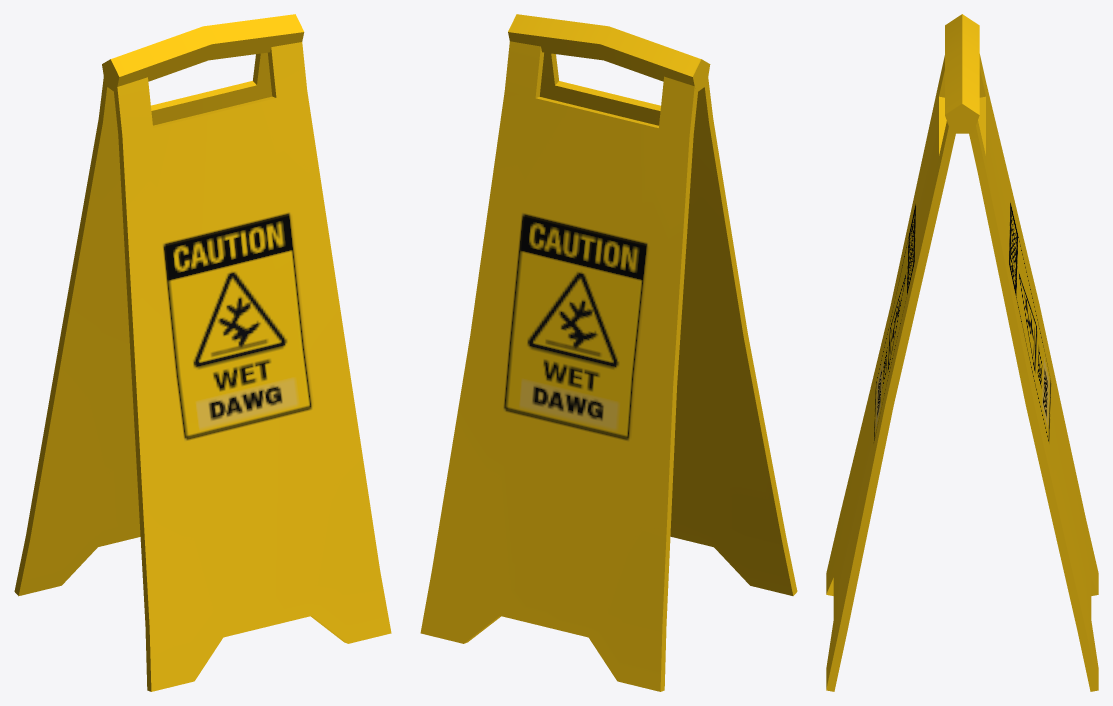
The model's file is WetFloorSign.fbx.
3 views of the same model, side by side, from view 1: azimuth 30°, elevation 25°; view 2: azimuth 150°, elevation 25°; view 3: azimuth 270°, elevation 25° (orthographic).
Parts seen in each view (by area): view 1: wetFloorSign3, wetFloorSign1, wetFloorSignhandle; view 2: wetFloorSign1, wetFloorSign3, wetFloorSignhandle; view 3: wetFloorSign1, wetFloorSign3, wetFloorSignhandle.
Boxes of the visible parts, bbox=[...] form: wetFloorSign3: bbox=[114, 42, 391, 691]; wetFloorSign1: bbox=[14, 52, 272, 596]; wetFloorSignhandle: bbox=[102, 14, 304, 92]; wetFloorSign1: bbox=[420, 41, 697, 691]; wetFloorSign3: bbox=[539, 52, 797, 595]; wetFloorSignhandle: bbox=[508, 14, 710, 92]; wetFloorSign1: bbox=[969, 54, 1098, 691]; wetFloorSign3: bbox=[826, 55, 955, 691]; wetFloorSignhandle: bbox=[945, 14, 979, 133].
Bounding box in the file's own units: 0.9707 × 2.27 × 0.9591.
